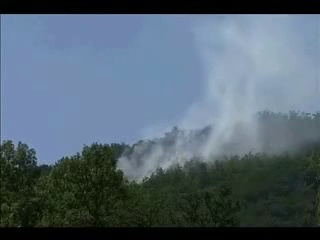smoke: (180, 14, 301, 155), (104, 115, 194, 183)
